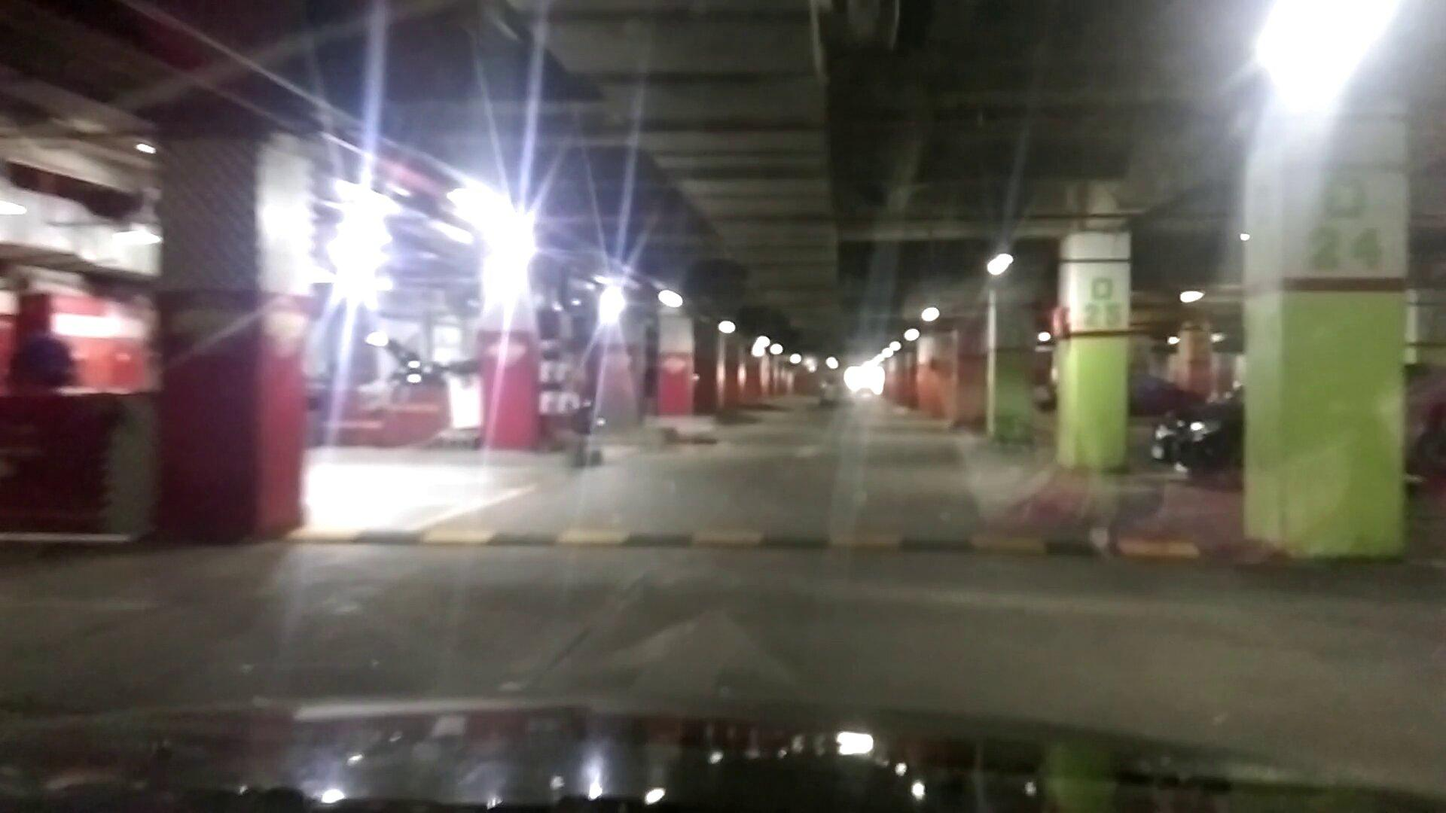Bump: (309, 510, 1252, 585)
